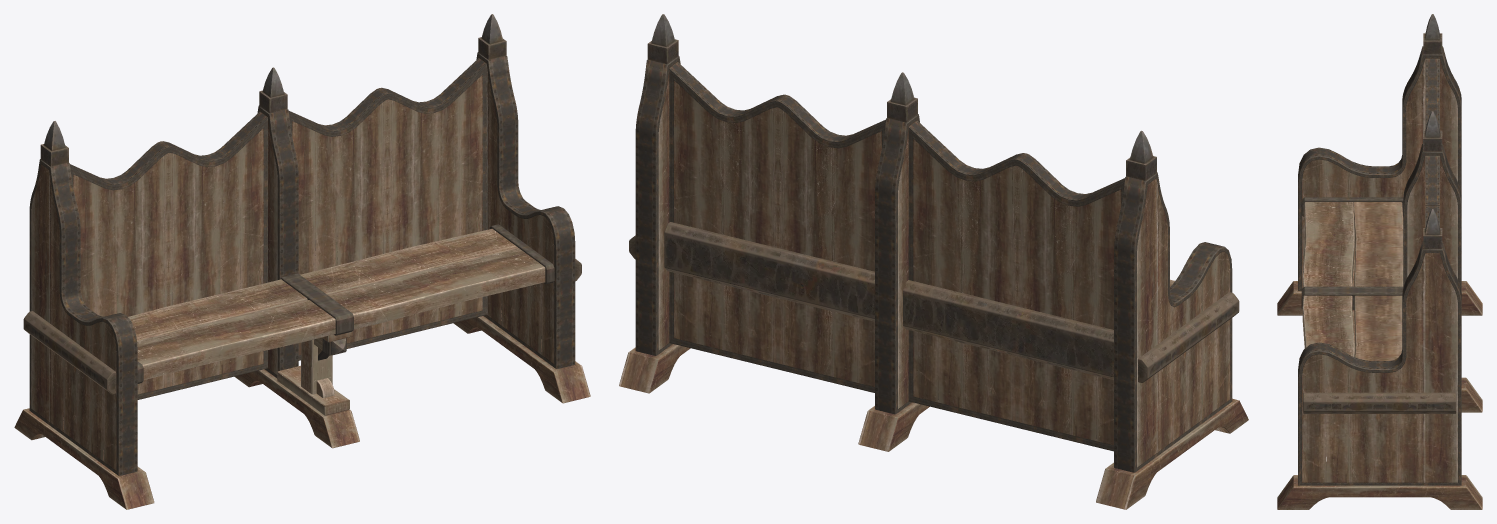
3 views of the same model, side by side, from view 1: azimuth 30°, elevation 25°; view 2: azimuth 150°, elevation 25°; view 3: azimuth 270°, elevation 25° (orthographic). The views are drawn at different scales.
Visible parts, largest first — view 1: SM_DR_MagesPews_A_01_01_LOD0; view 2: SM_DR_MagesPews_A_01_01_LOD0; view 3: SM_DR_MagesPews_A_01_01_LOD0.
Part boxes in pixels (left/top/right/bottom): SM_DR_MagesPews_A_01_01_LOD0: left=14, top=14, right=590, bottom=509; SM_DR_MagesPews_A_01_01_LOD0: left=619, top=14, right=1248, bottom=509; SM_DR_MagesPews_A_01_01_LOD0: left=1277, top=14, right=1482, bottom=509.
Bounding box in the file's own units: 2.26 × 1.47 × 0.9261.
3 materials, 3 textured.
